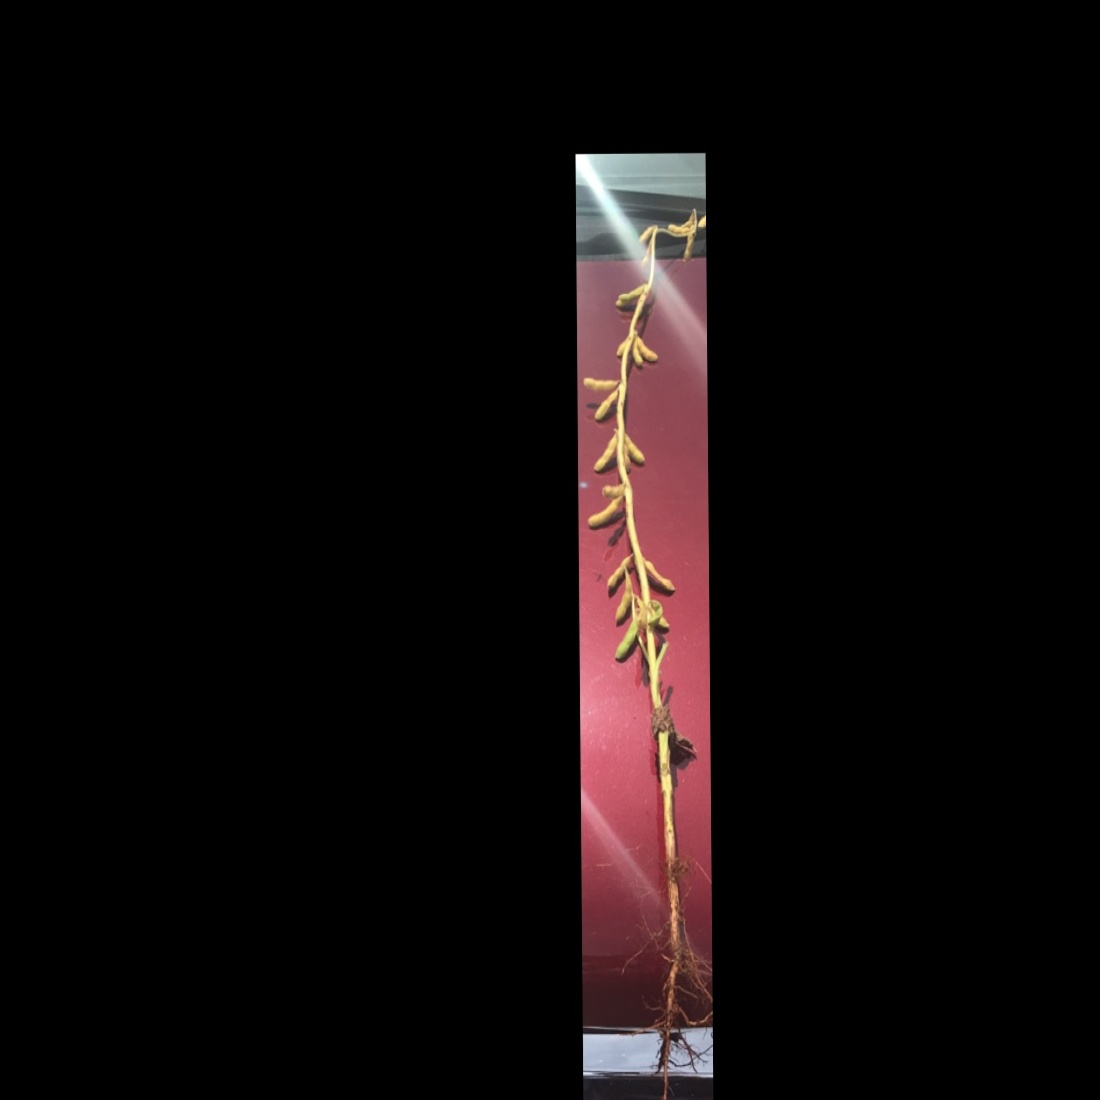pod: (586, 431, 618, 476), (584, 497, 626, 532), (613, 615, 640, 669), (611, 567, 634, 628), (642, 555, 675, 592), (592, 390, 618, 424), (579, 375, 622, 392), (679, 235, 696, 265), (633, 222, 654, 245), (620, 440, 631, 477), (638, 239, 652, 268)
soy: (577, 205, 711, 909)
